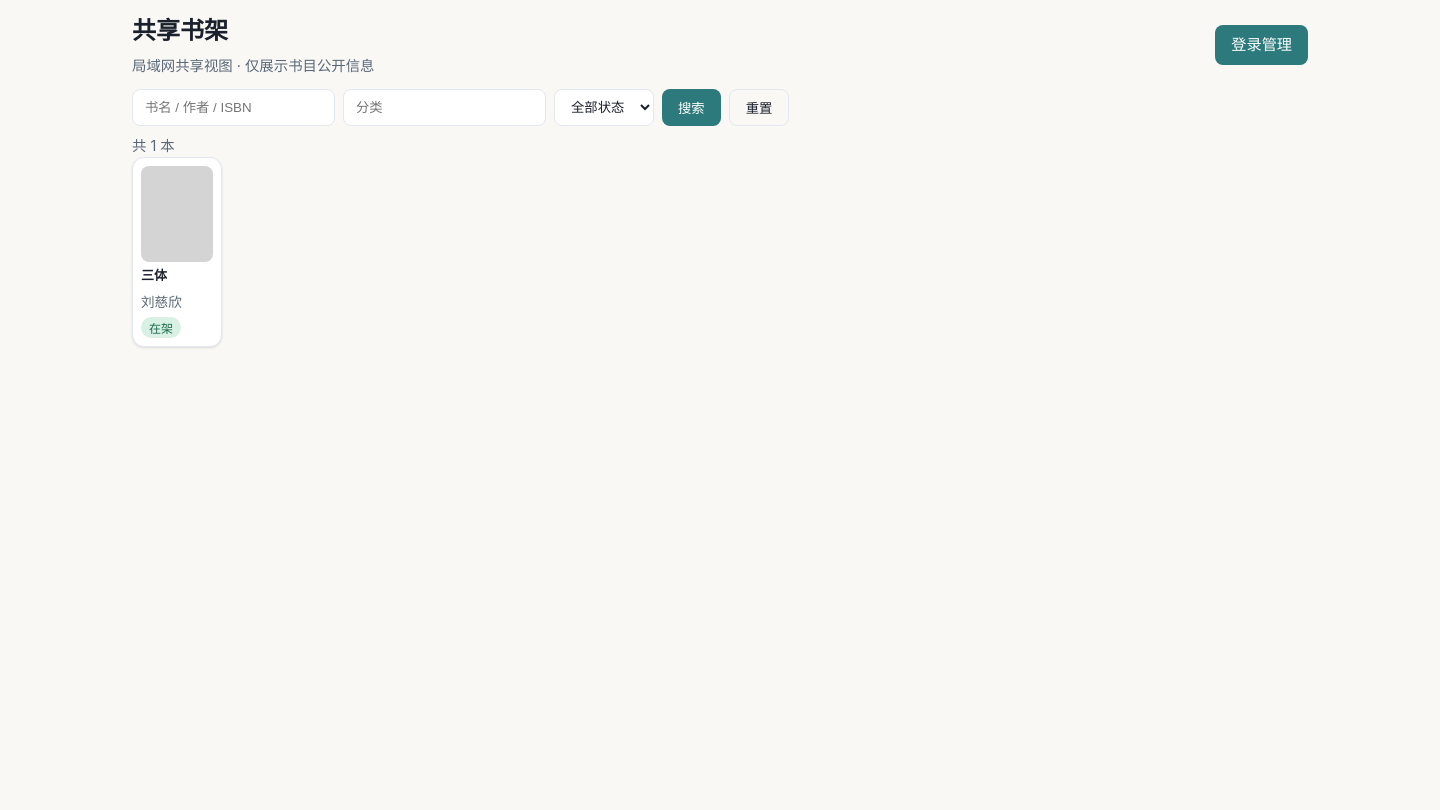
Test: SharedBookshelfView › 可信来源：渲染书目卡片与脱敏详情
Click the button with class "book-card". click: (177, 252)
box: [132,158,222,347]
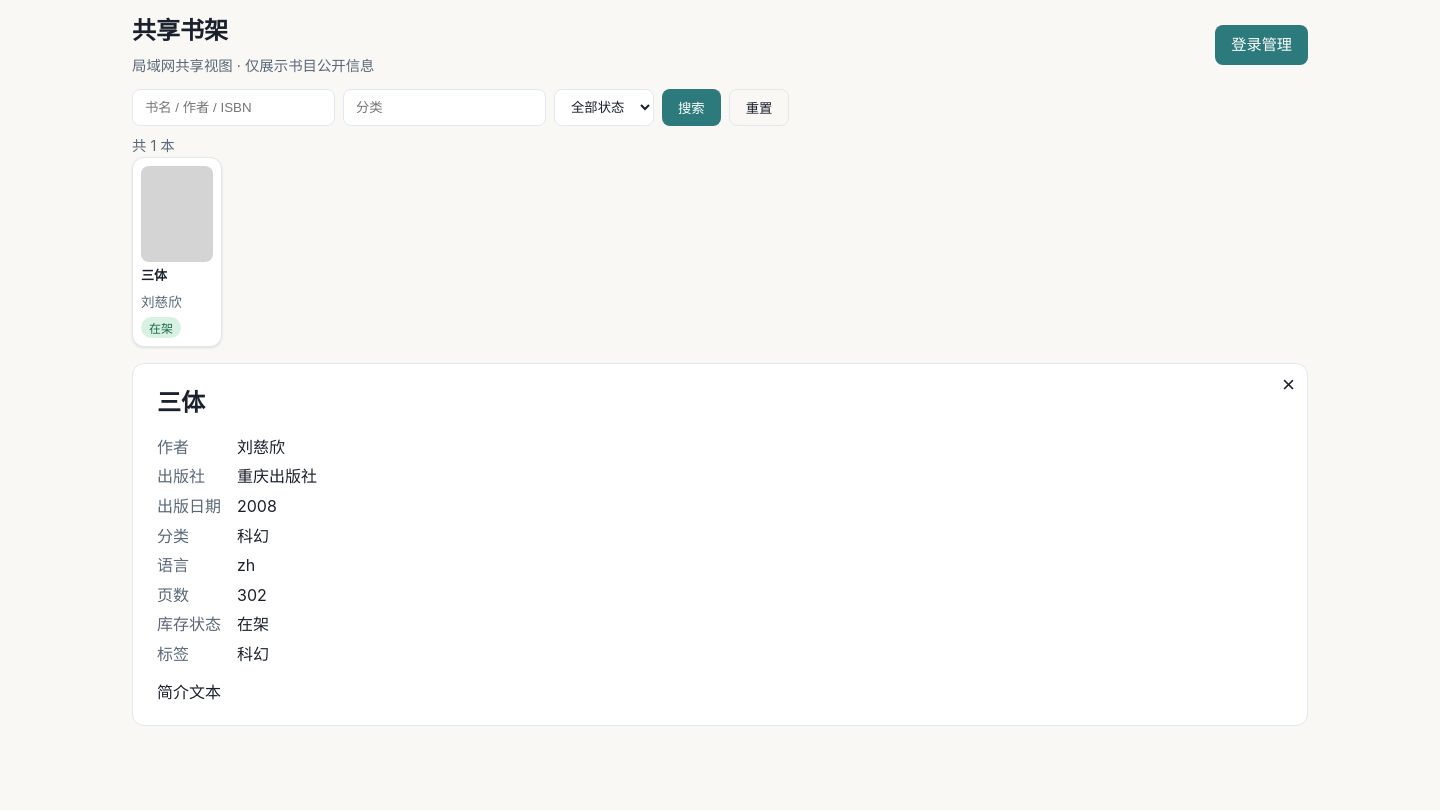
Expected: the text "重庆出版社" is shown, [237,466,317,486]
Expected: the text "简介文本" is shown, [157,682,221,702]
